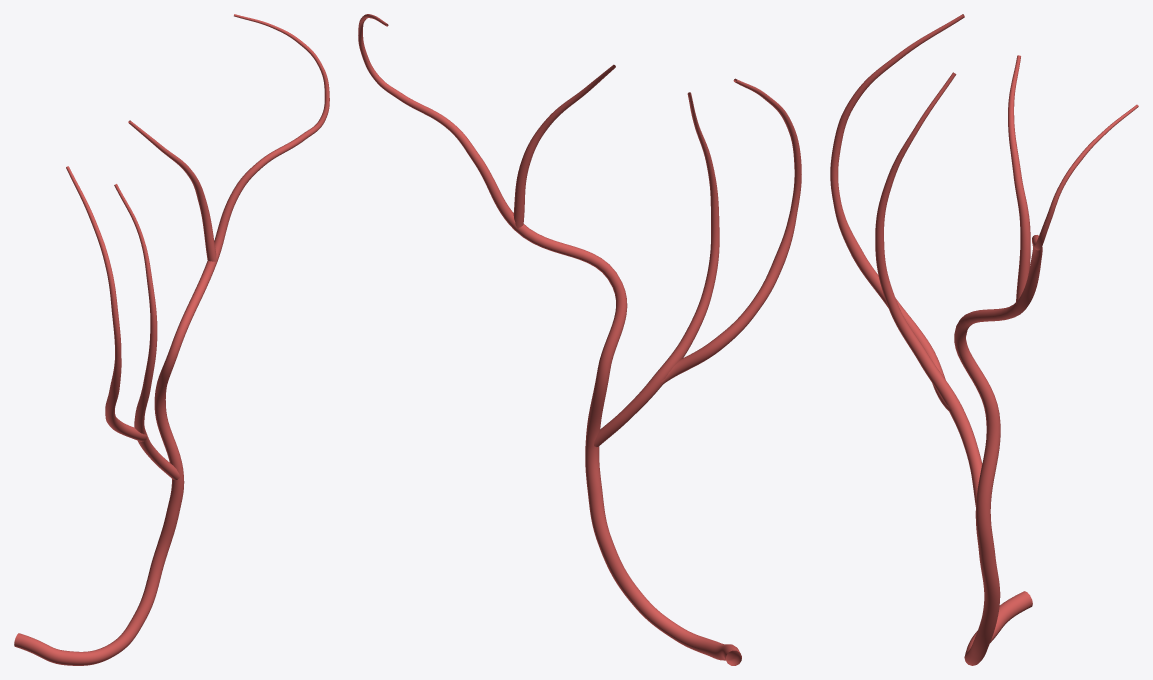
3 renders of one model, left to right at view 1: azimuth 30°, elevation 25°; view 2: azimuth 150°, elevation 25°; view 3: azimuth 270°, elevation 25°, orthographic. The views are drawn at different scales.
Parts seen in each view (by area): view 1: 左侧小脑上动脉; view 2: 左侧小脑上动脉; view 3: 左侧小脑上动脉.
Part boxes in pixels (x1,y1,x2,y2): 左侧小脑上动脉: (14,14,329,665); 左侧小脑上动脉: (358,14,801,665); 左侧小脑上动脉: (830,14,1138,665).
Bounding box in the file's own units: 0.0682 × 0.1102 × 0.0454.
